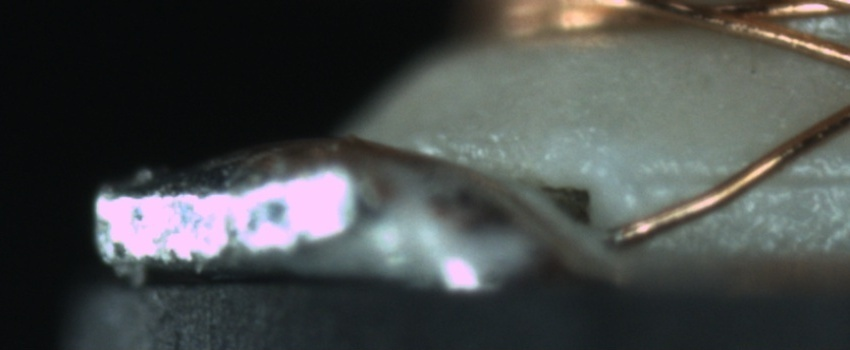DL: (668, 148, 849, 210)
